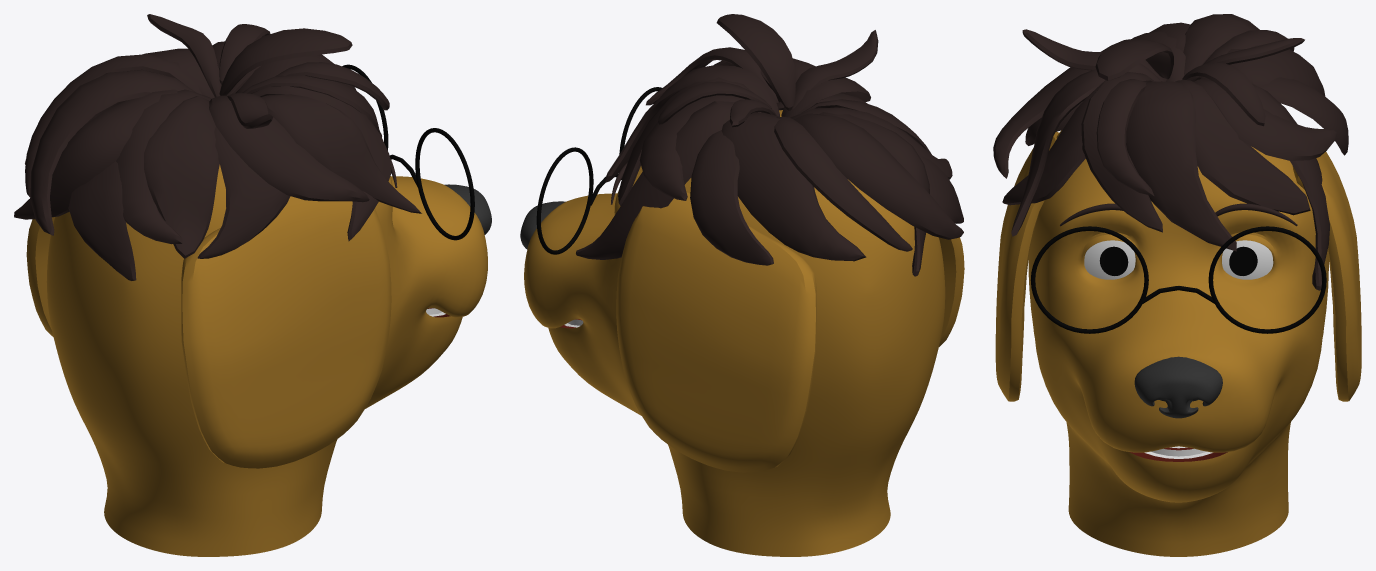
Rendered from mesh_avatar_alexyz.glb.
3 views of the same model, side by side, from view 1: azimuth 30°, elevation 25°; view 2: azimuth 150°, elevation 25°; view 3: azimuth 270°, elevation 25° (orthographic). The views are drawn at different scales.
Visible parts, largest first — view 1: retopo_head, retopo_ears, hair_front_8.001, hair_front_spike_3, hair_front_6.001, hair_front_6, hair_front_7, hair_front_8.002, hair_front_7.001, hair_front_5, hair_t2_2, hair_front_5.001 (+10 smaller); view 2: retopo_head, retopo_ears, hair_front_4, hair_front_6, hair_front_9, hair_front_8, hair_front_5.001, hair_t2_2, hair_front_3, hair_front_spike_2, hair_front_7, hair_t2_4 (+10 smaller); view 3: retopo_head, retopo_ears, hair_front_spike_2, hair_front_2, hair_front_3, retopo_nose, glasses_frames, hair_front_spike_2.002, hair_front_spike_1, hair_front_spike_3, hair_front_spike_2.001, hair_front_8 (+16 smaller).
Part boxes in pixels (x1,y1,x2,y2): retopo_head: [46, 164, 487, 556]; retopo_ears: [26, 196, 391, 468]; hair_front_8.001: [144, 96, 219, 258]; hair_front_spike_3: [261, 94, 421, 213]; hair_front_6.001: [209, 95, 369, 202]; hair_front_6: [30, 69, 196, 235]; hair_front_7: [14, 89, 177, 219]; hair_front_8.002: [197, 126, 290, 258]; hair_front_7.001: [68, 161, 136, 280]; hair_front_5: [116, 89, 211, 244]; hair_t2_2: [219, 28, 352, 95]; hair_front_5.001: [25, 54, 201, 197]; retopo_head: [524, 110, 945, 556]; retopo_ears: [616, 191, 964, 472]; hair_front_4: [721, 112, 866, 261]; hair_front_6: [794, 113, 963, 239]; hair_front_9: [690, 130, 773, 265]; hair_front_8: [576, 101, 734, 259]; hair_front_5.001: [774, 116, 912, 251]; hair_t2_2: [716, 14, 795, 110]; hair_front_3: [639, 95, 761, 200]; hair_front_spike_2: [605, 65, 779, 182]; hair_front_7: [818, 112, 929, 276]; hair_t2_4: [789, 30, 878, 113]; retopo_head: [1028, 130, 1328, 556]; retopo_ears: [995, 131, 1361, 401]; hair_front_spike_2: [1126, 81, 1236, 251]; hair_front_2: [1175, 80, 1310, 215]; hair_front_3: [1193, 79, 1337, 160]; retopo_nose: [1134, 356, 1222, 418]; glasses_frames: [1030, 226, 1326, 333]; hair_front_spike_2.002: [1096, 79, 1154, 196]; hair_front_spike_1: [1081, 72, 1162, 232]; hair_front_spike_3: [1011, 69, 1104, 236]; hair_front_spike_2.001: [1002, 80, 1105, 205]; hair_front_8: [1211, 81, 1329, 290].
Size of the model in its own units: 0.5867 by 0.6049 by 0.4085.
